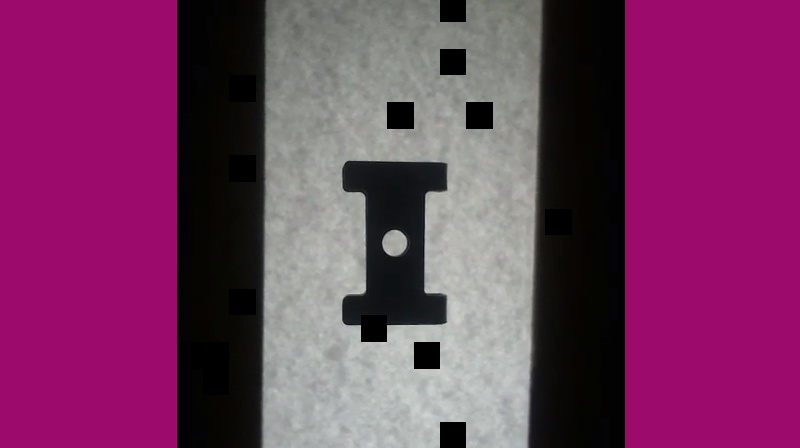O002: (339, 156, 450, 327)
